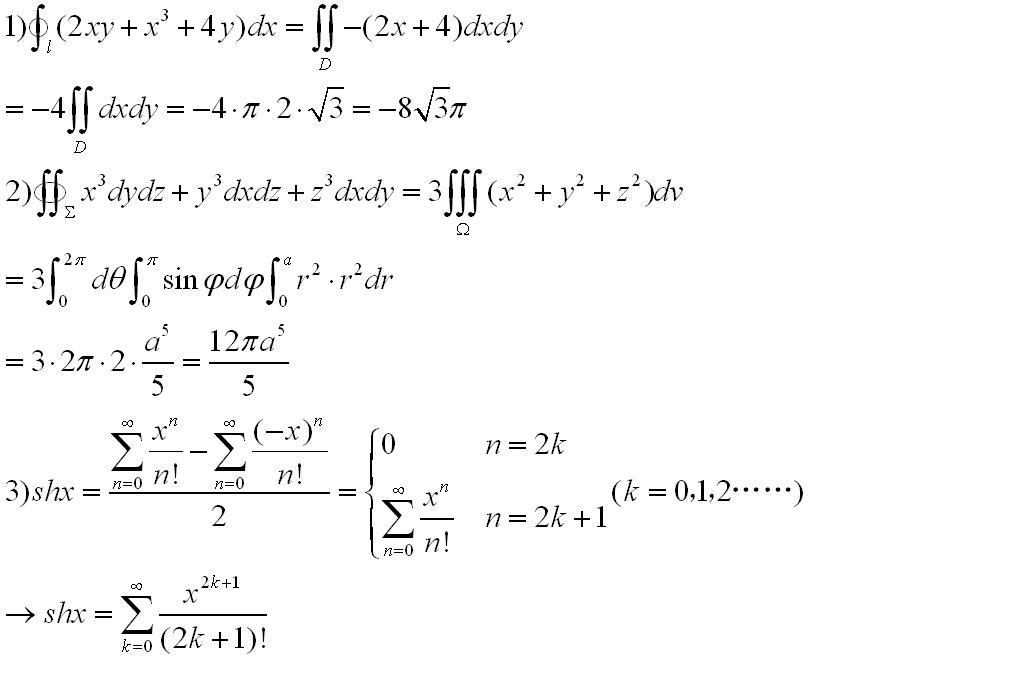cube: (206, 170, 224, 190), (322, 169, 334, 190), (93, 171, 107, 188), (158, 7, 172, 23)
division: (107, 484, 332, 500)
square: (571, 170, 584, 190), (629, 169, 642, 188), (514, 170, 525, 190)
